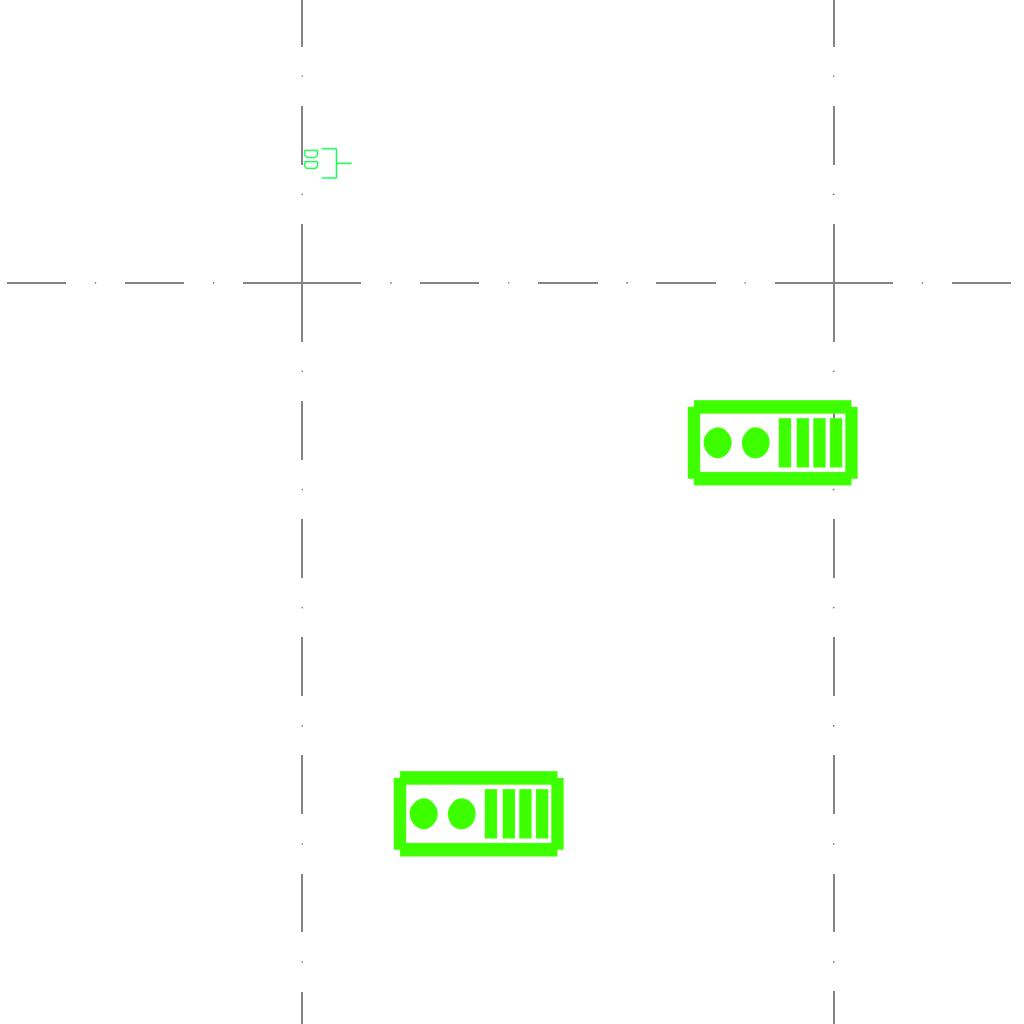Datenanschluss_zweifach: (302, 146, 353, 180)
Gegensprechanlage_mit_Video: (390, 768, 566, 863), (684, 397, 860, 492)
